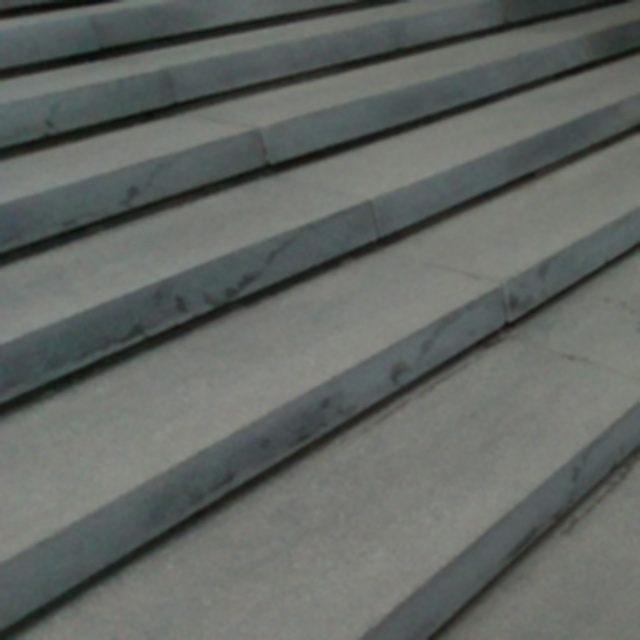stair: (0, 0, 631, 611)
